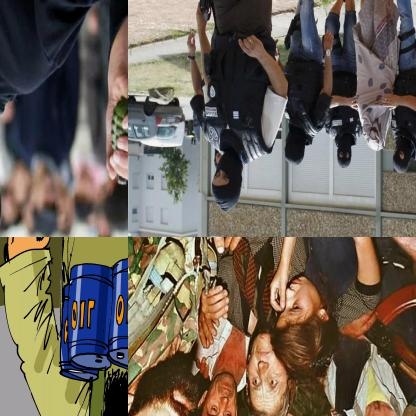knife: (4, 237, 74, 266)
rifle: (357, 274, 415, 399)
